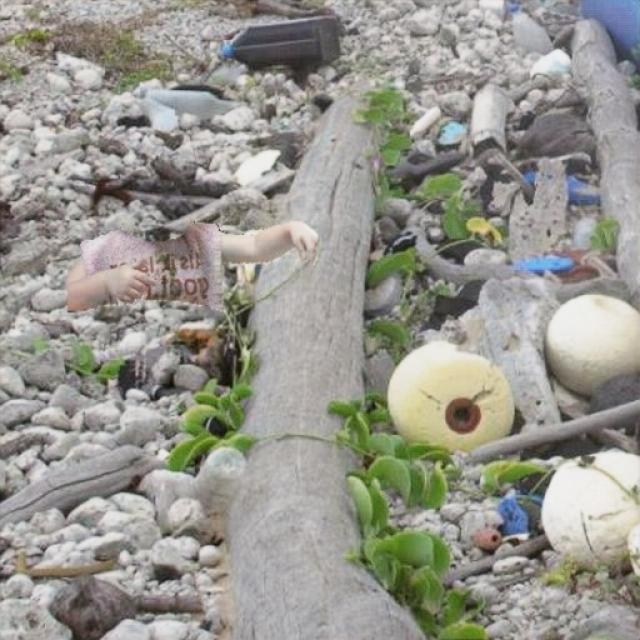Person in Rubble: (68, 216, 316, 312)
